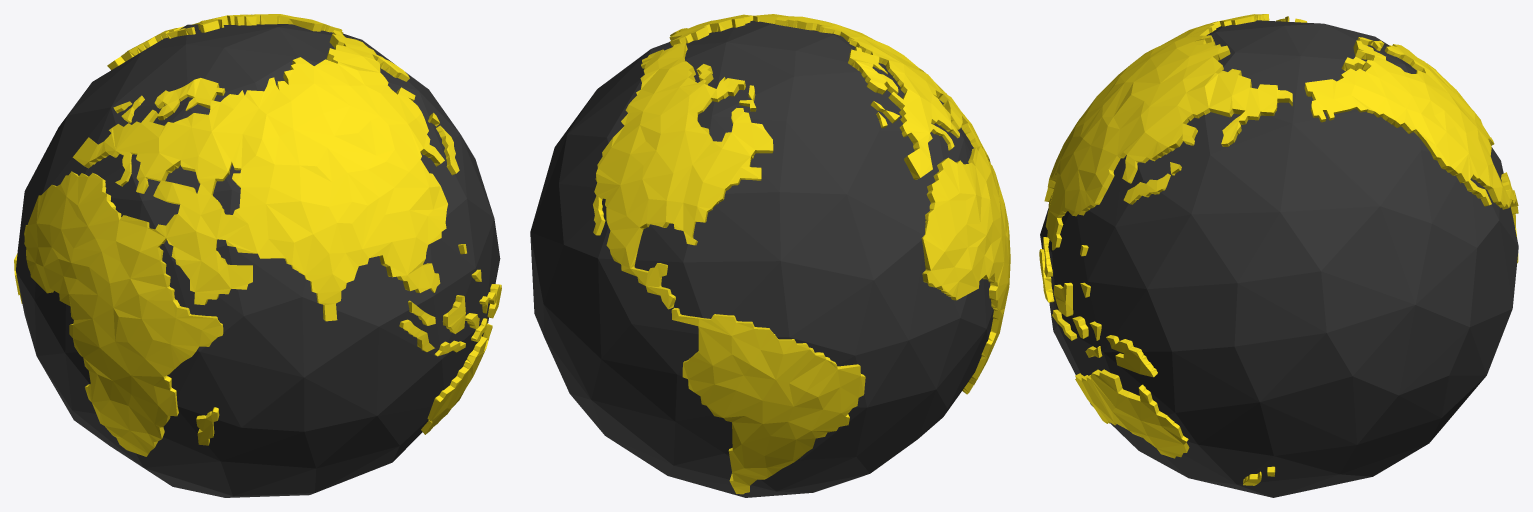
File: earth.gltf
3 views of the same model, side by side, from view 1: azimuth 30°, elevation 25°; view 2: azimuth 150°, elevation 25°; view 3: azimuth 270°, elevation 25° (orthographic).
Parts seen in each view (by area): view 1: 3DSMeshMatrix (×2); view 2: 3DSMeshMatrix (×2); view 3: 3DSMeshMatrix (×2).
Boxes of the visible parts, x1,y1,x2,y2 form: 3DSMeshMatrix (×2): (14, 14, 501, 497); 3DSMeshMatrix (×2): (530, 14, 1010, 497); 3DSMeshMatrix (×2): (1039, 14, 1518, 497).
Size of the model in its own units: 206 by 206 by 207.
